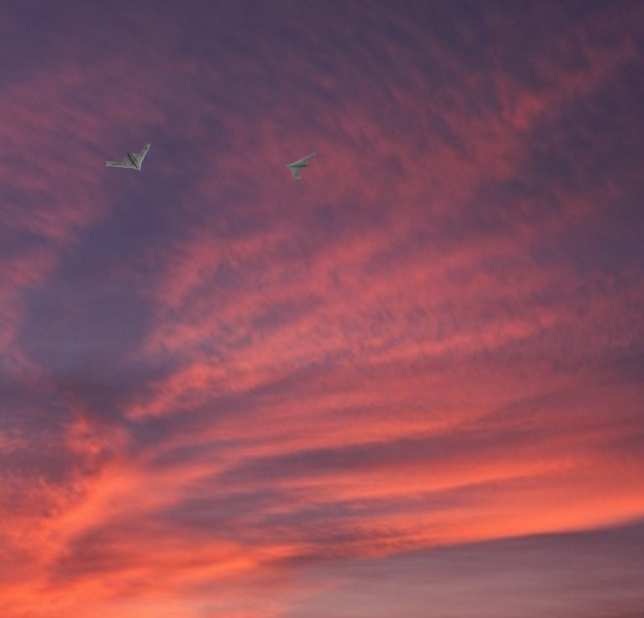military drone: (104, 142, 151, 171), (285, 152, 315, 180)
